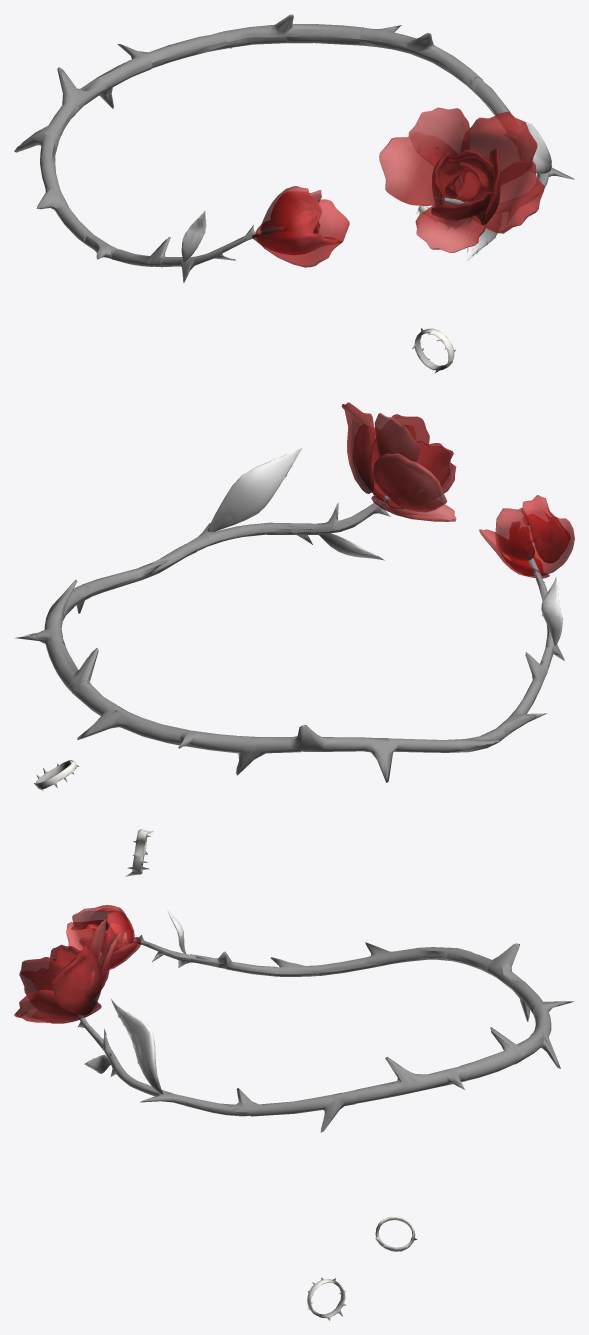
The model's file is rose.glb.
3 views of the same model, one above another, from view 1: azimuth 30°, elevation 25°; view 2: azimuth 150°, elevation 25°; view 3: azimuth 270°, elevation 25° (orthographic). The views are drawn at different scales.
Parts seen in each view (by area): view 1: Rose; view 2: Rose; view 3: Rose.
Boxes of the visible parts, box(x1,y1,x2,y2) form: Rose: box(14, 14, 574, 373); Rose: box(15, 402, 574, 876); Rose: box(14, 905, 574, 1320).
Bounding box in the file's own units: 0.241 × 0.2025 × 0.2994.
